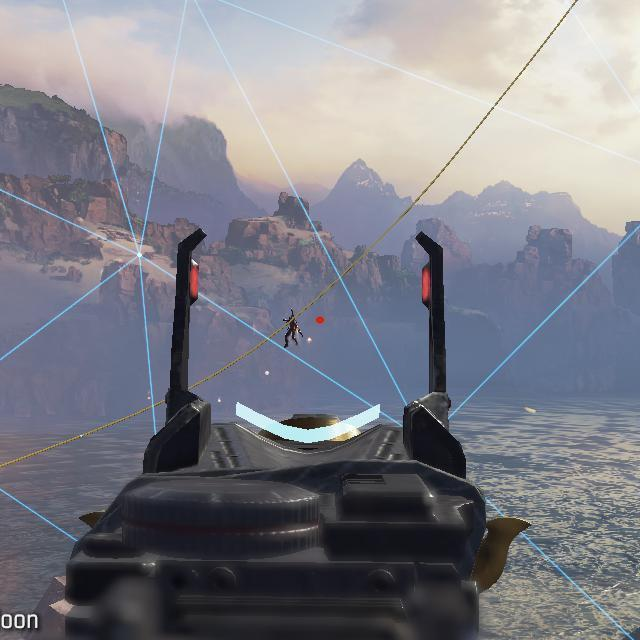avatar: (282, 308, 306, 349)
